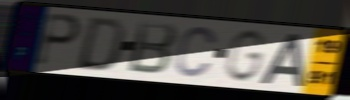A: (258, 32, 306, 88)
B: (126, 19, 180, 77)
C: (173, 24, 220, 80)
D: (73, 16, 128, 74)
G: (221, 28, 269, 85)
P: (34, 11, 84, 69)
